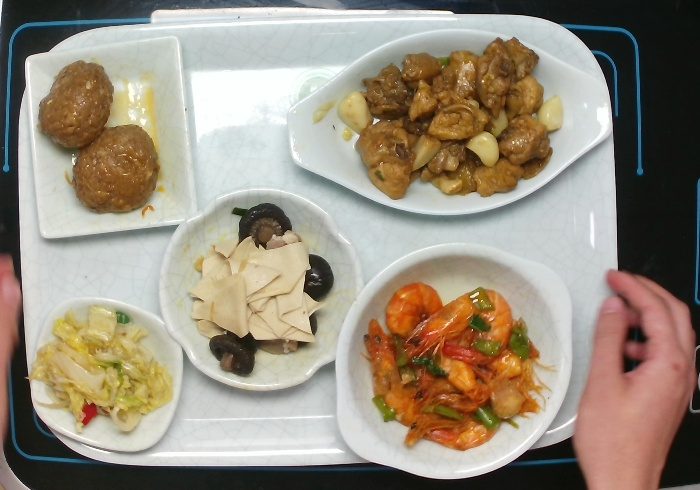JYsf-Ao_Yuan_Wan: (156, 186, 366, 394)
JYsf-Shuang_Er_Wan: (333, 235, 579, 481)
JYsf-Si_Fang_Die: (24, 285, 186, 461)
JYsf-Yu_Pan: (286, 19, 617, 221)
WCQzf-Ru_Ci_Si_Fang_Die: (22, 30, 207, 241)
